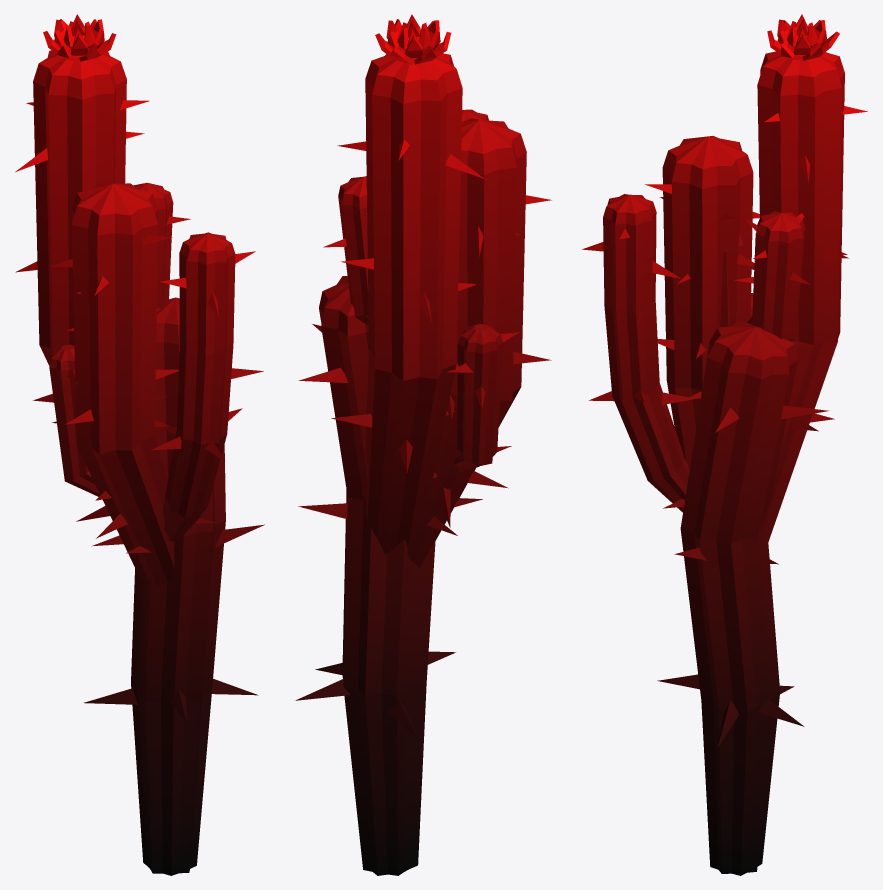
The model's file is TreeCactusTall02.fbx.
The picture shows the model from 3 angles, left to right: view 1: azimuth 30°, elevation 25°; view 2: azimuth 150°, elevation 25°; view 3: azimuth 270°, elevation 25°; orthographic projection. The views are drawn at different scales.
Parts seen in each view (by area): view 1: TreeCactusTall02_LOD0; view 2: TreeCactusTall02_LOD0; view 3: TreeCactusTall02_LOD0.
Boxes of the visible parts, x1,y1,x2,y2 form: TreeCactusTall02_LOD0: (15,14,264,875); TreeCactusTall02_LOD0: (295,14,551,875); TreeCactusTall02_LOD0: (582,14,867,875).
Size of what is drawn, in the model's own units: 77.98 by 290 by 92.86.
